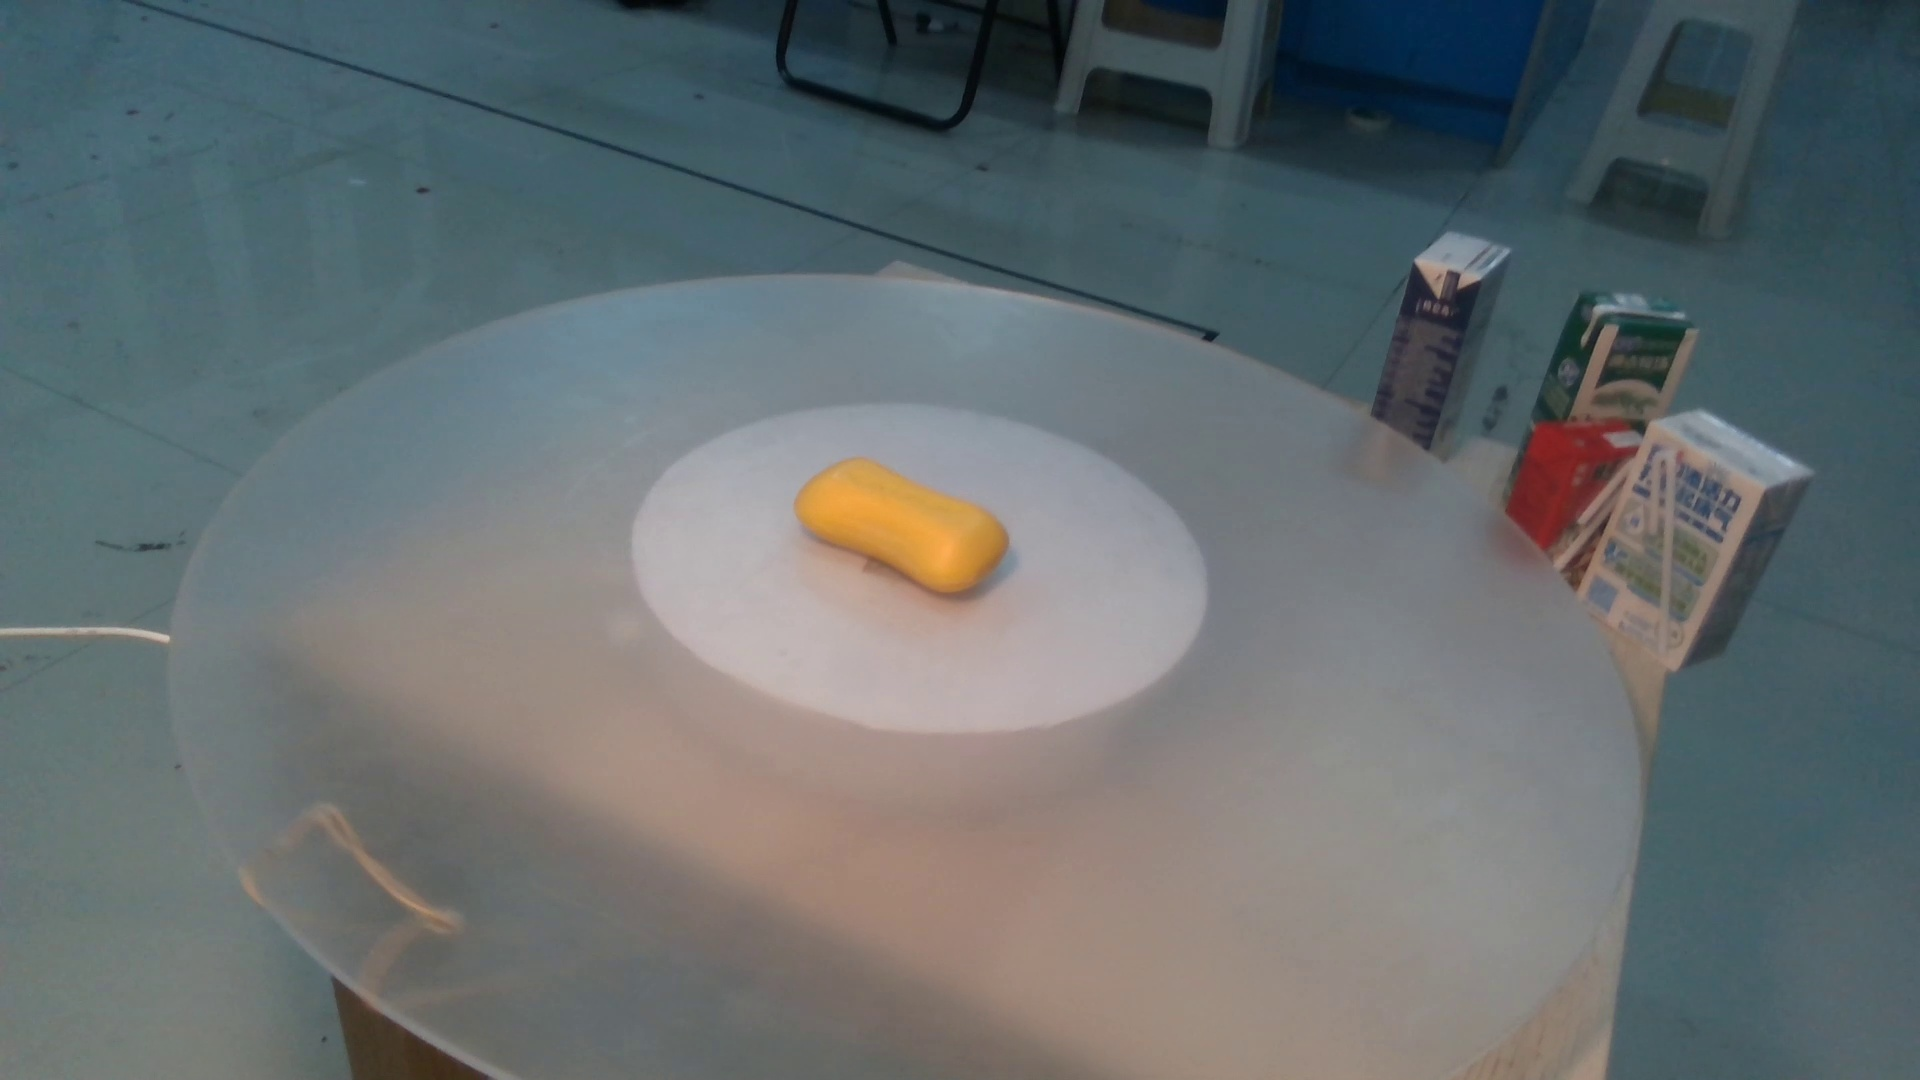CA003_1: (786, 418, 1036, 593)
